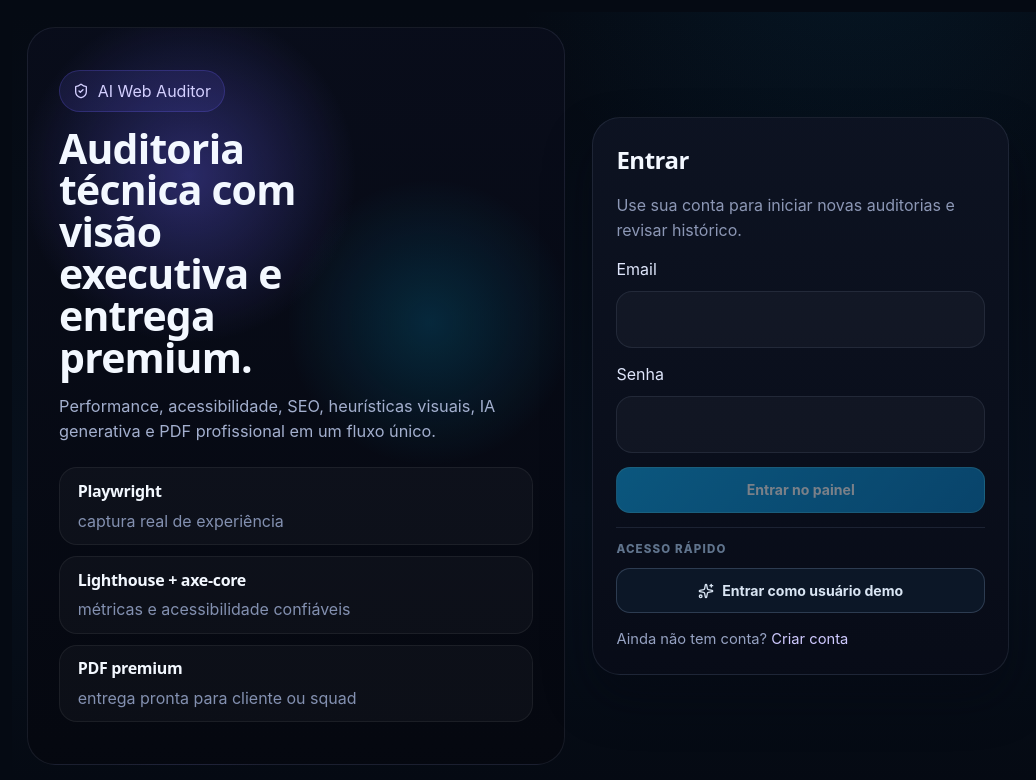
sessão inválida no armazenamento não impede um novo login
Step 1. Type "usuario@gmail.com" into the field labelled "Email" → (801, 319), box [616,291,985,348]
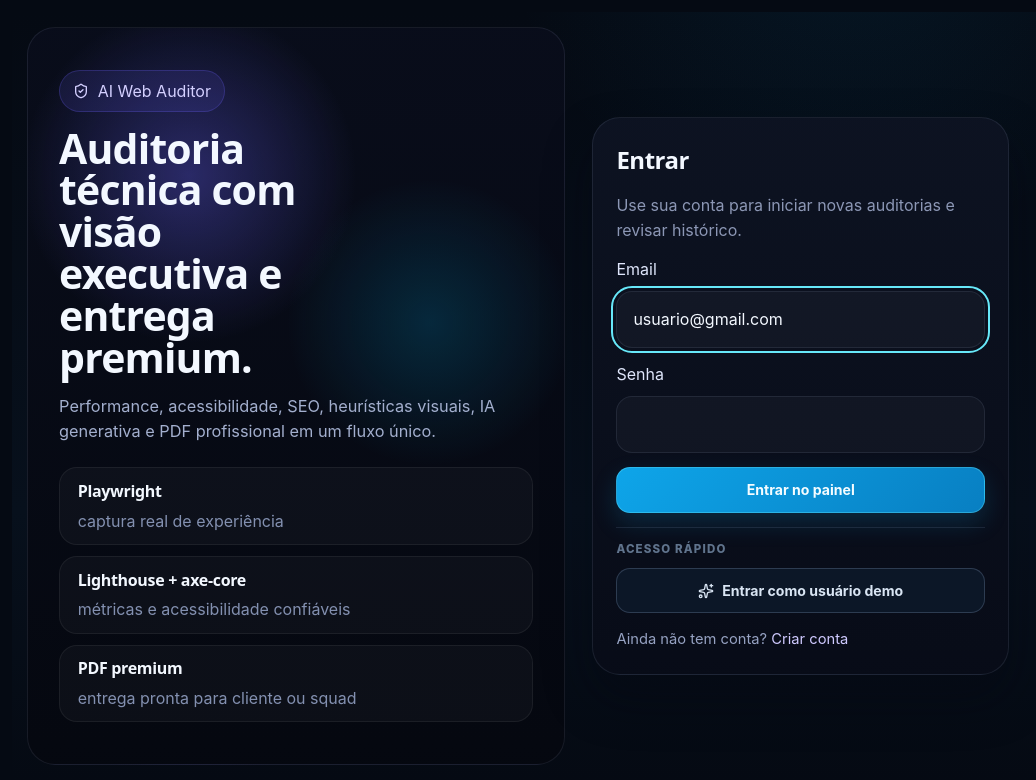
Step 2. Type "12345678" into the password field labelled "Senha" → (801, 424), box [616,396,985,453]
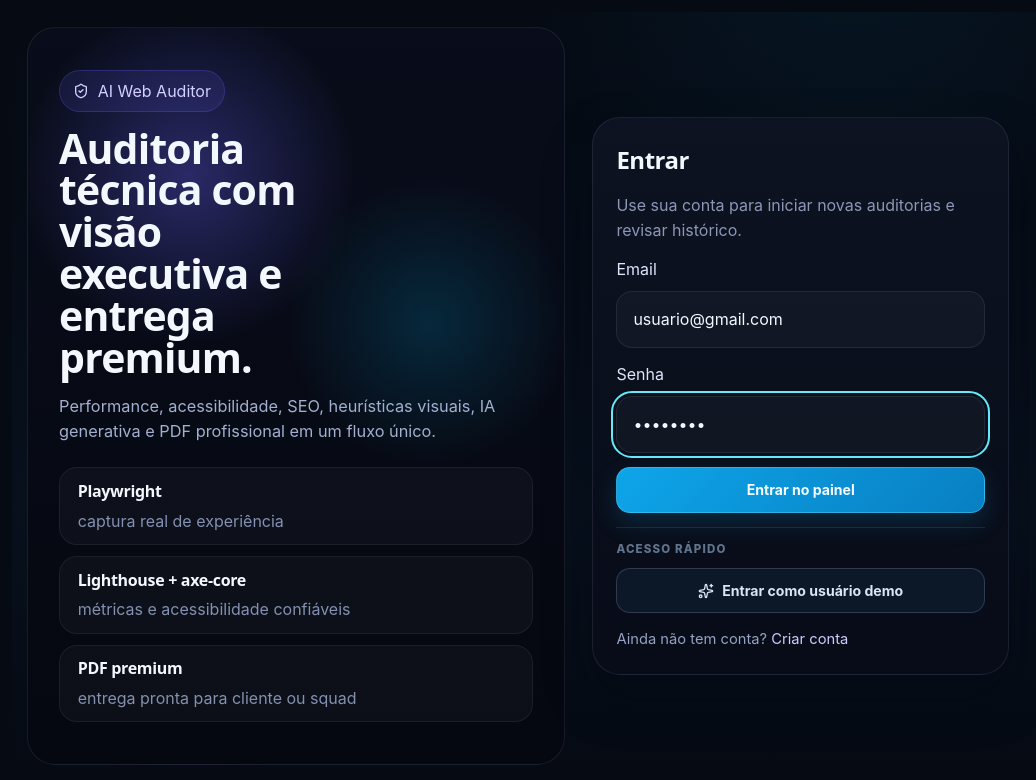
Step 3. Click the button "Entrar no painel" → click(801, 490), box [616,467,985,513]
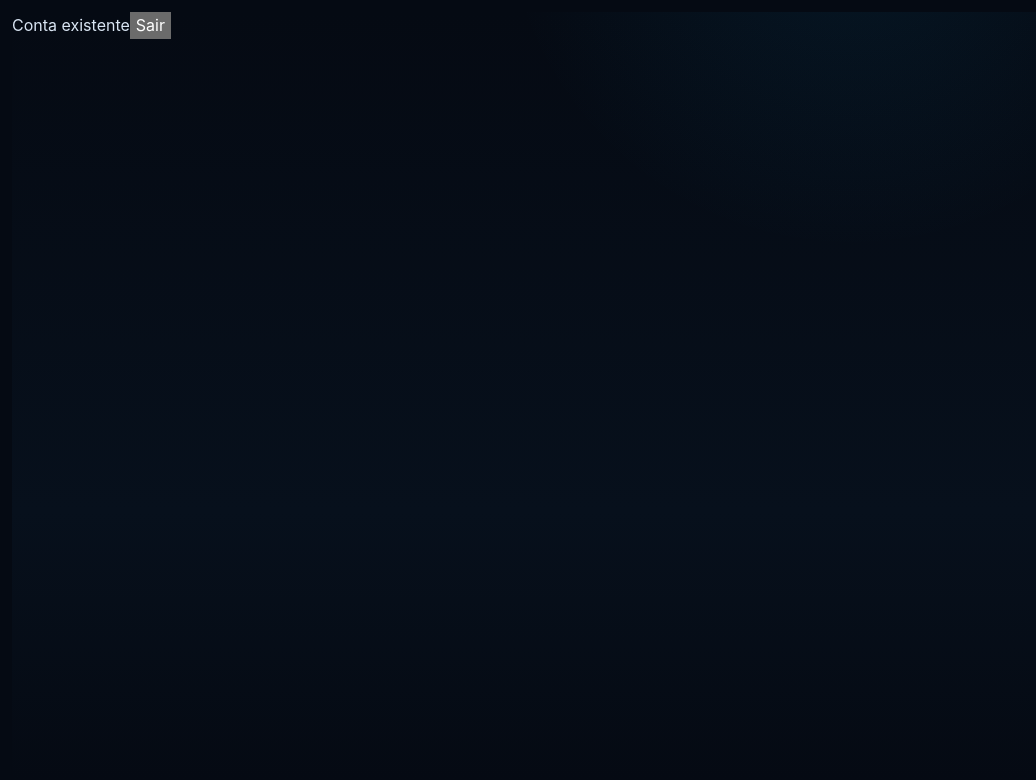
Expected: the text "Conta existente" is shown, [12,15,130,35]
